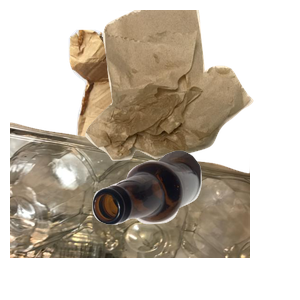cardboard: (66, 27, 242, 197)
glass: (90, 148, 300, 300)
plastic: (10, 120, 250, 300)
trash: (83, 10, 300, 163)
